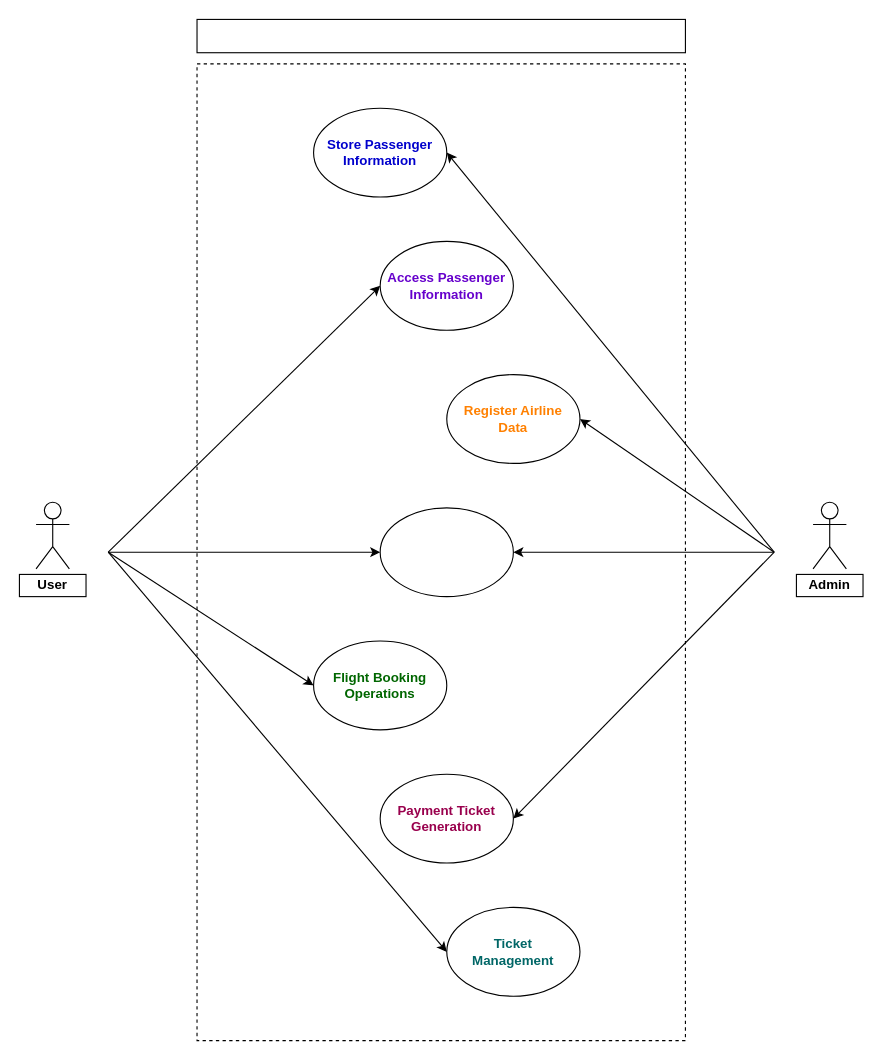
Some shapes in this 882 by 1061 pixel diagram are drawn without their labels. Each missing label, with the centre of its shape:
AIRFARE BOOKING SYSTEM: point 440,35
View Flight Dashboard: point 446,552
